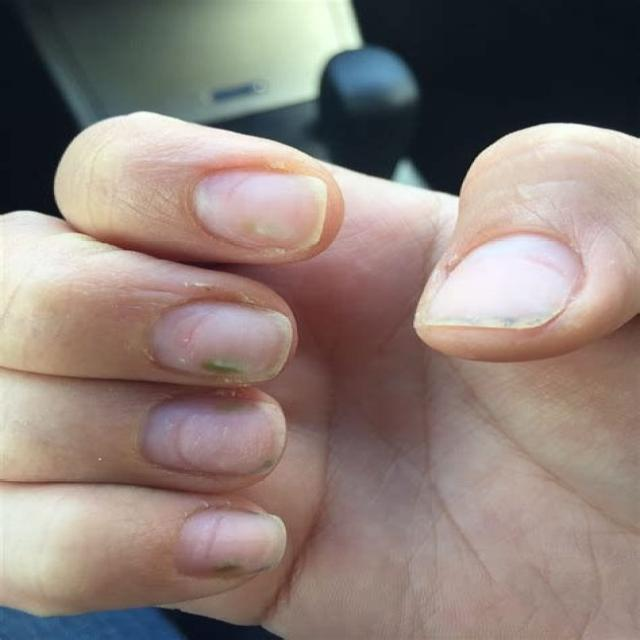Fingernail: (423, 235, 580, 328), (150, 303, 292, 384), (142, 396, 284, 476), (193, 169, 327, 250), (175, 509, 285, 578)
